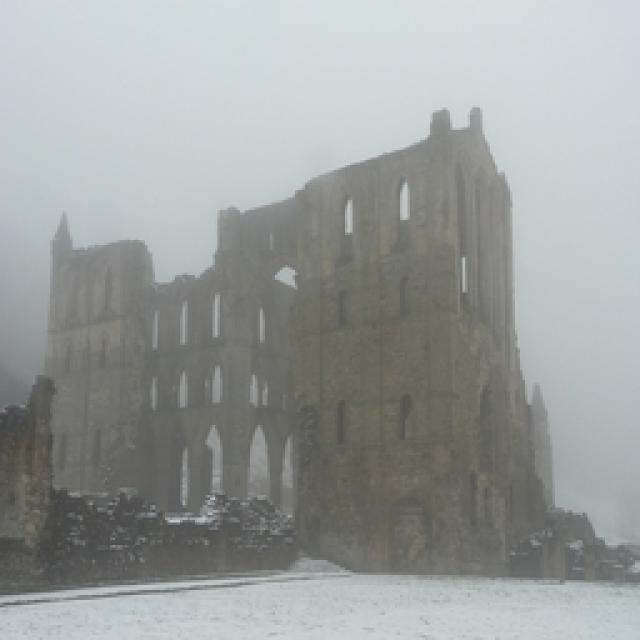Abbey: (33, 136, 569, 559)
